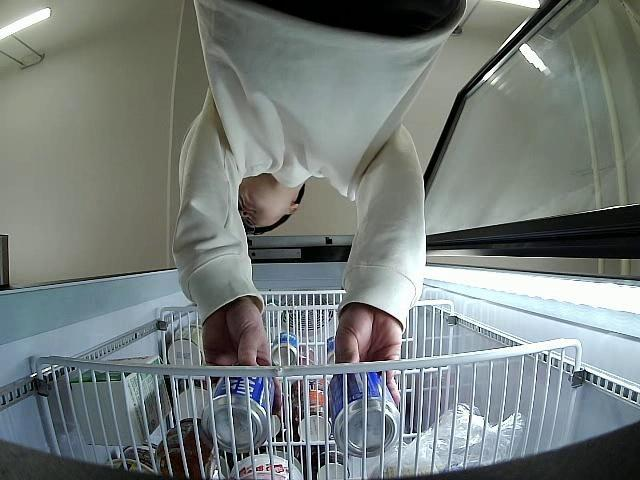13_pocariSweat: (324, 363, 402, 458), (202, 362, 273, 452)
